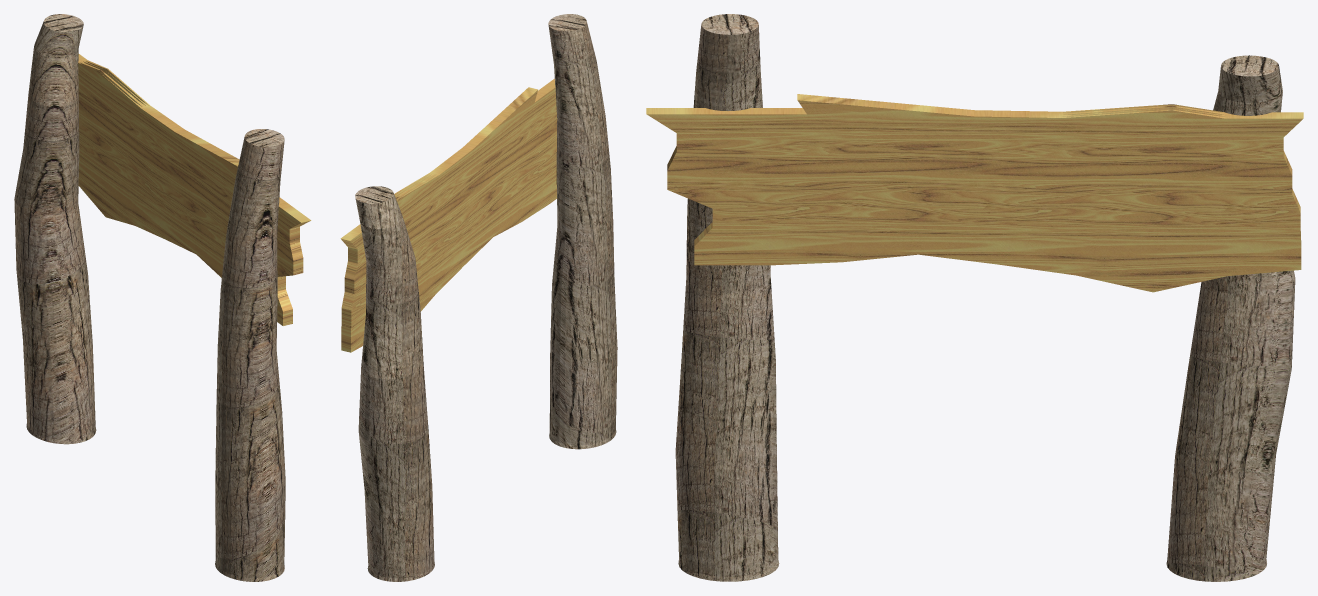
Rendered from signboardGLB.glb.
3 renders of one model, left to right at view 1: azimuth 30°, elevation 25°; view 2: azimuth 150°, elevation 25°; view 3: azimuth 270°, elevation 25°, orthographic. The views are drawn at different scales.
Parts seen in each view (by area): view 1: Cylinder; view 2: Cylinder; view 3: Cylinder.
Boxes of the visible parts, <box> form: Cylinder: <box>14,14,311,581</box>; Cylinder: <box>340,14,617,581</box>; Cylinder: <box>646,14,1303,581</box>.
Bounding box in the file's own units: 0.2011 × 1.31 × 1.42.
2 materials, 2 textured.
